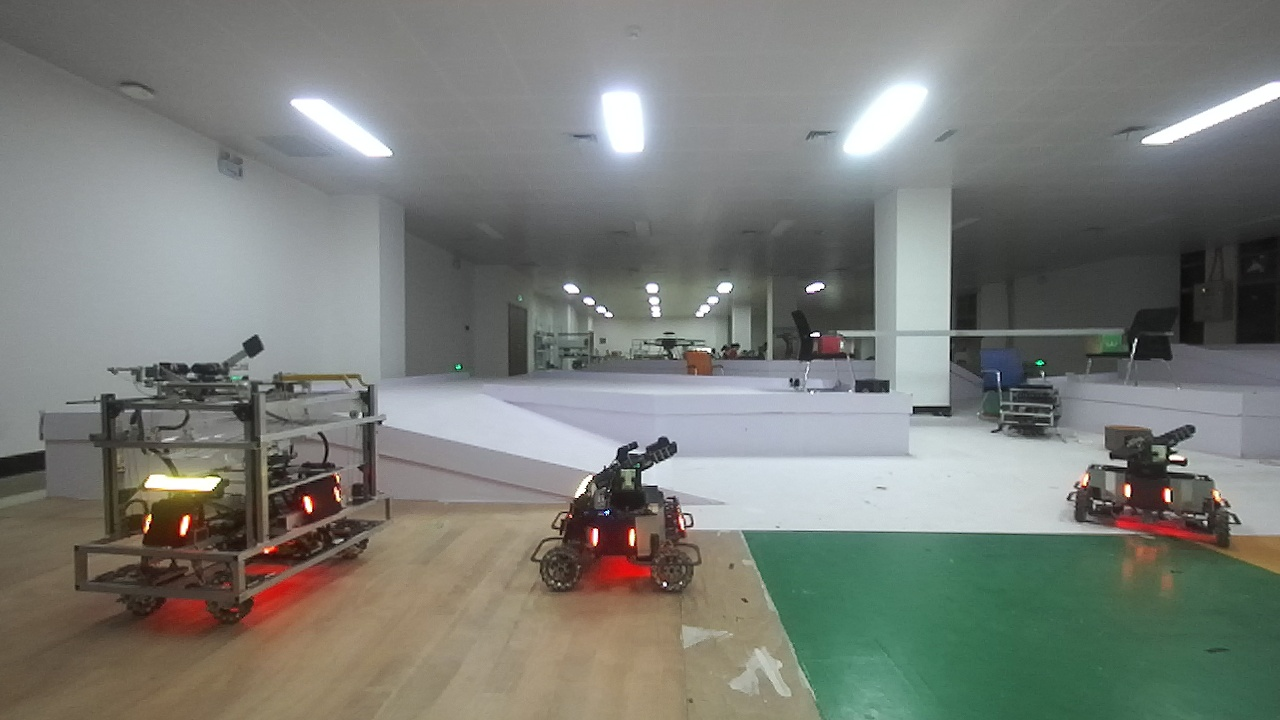car: (69, 350, 413, 622), (535, 435, 731, 597), (1061, 423, 1263, 553)
